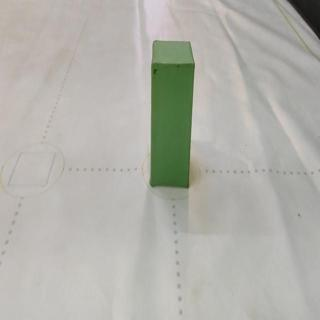greenbox: (148, 35, 196, 189)
